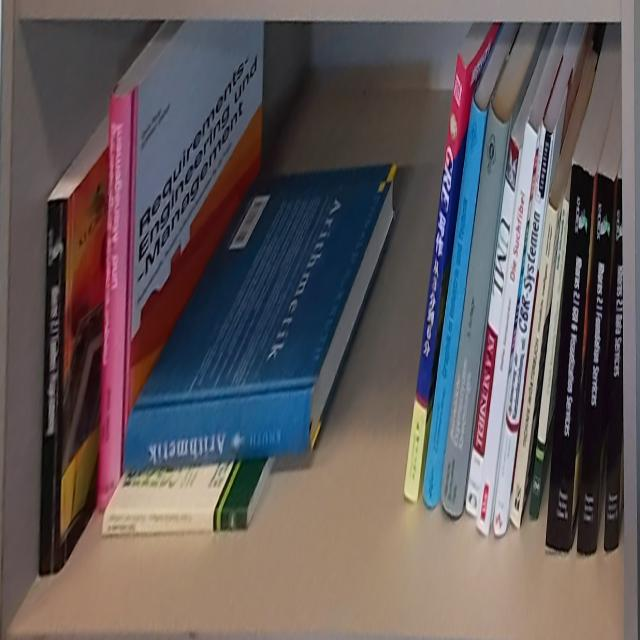Book Spine: (440, 101, 511, 518), (403, 51, 466, 502), (422, 96, 488, 509), (476, 122, 538, 541), (493, 121, 554, 536), (465, 137, 520, 519), (545, 165, 595, 557), (509, 202, 560, 535), (96, 93, 134, 513), (125, 388, 315, 471), (578, 173, 615, 555), (529, 196, 570, 521), (38, 197, 69, 577), (603, 176, 623, 553), (101, 511, 247, 536)
